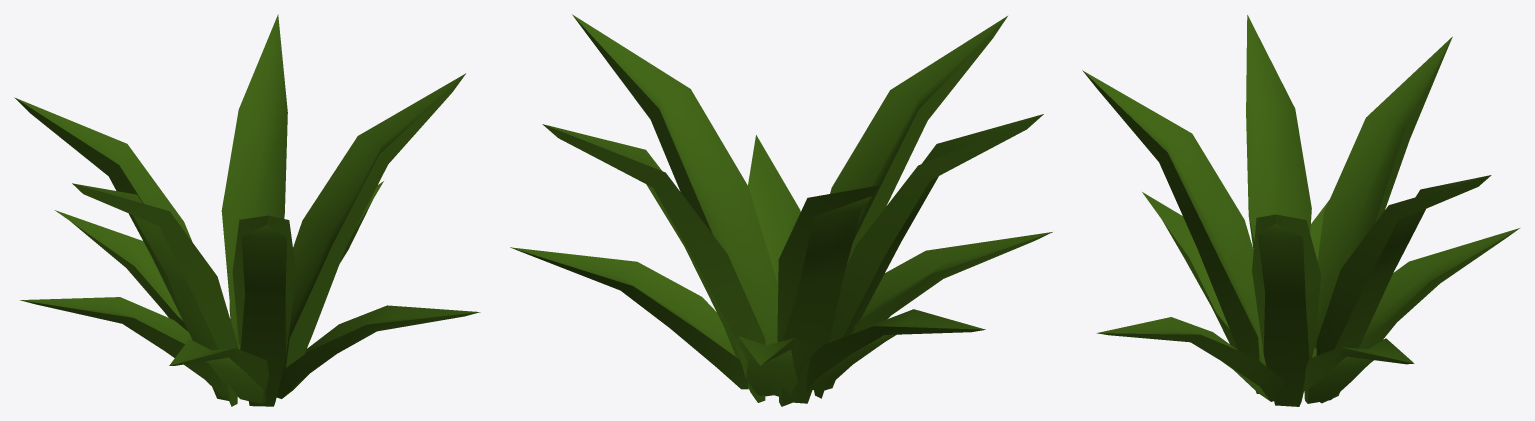
File: Bush_type1.FBX
3 views of the same model, side by side, from view 1: azimuth 30°, elevation 25°; view 2: azimuth 150°, elevation 25°; view 3: azimuth 270°, elevation 25° (orthographic). The views are drawn at different scales.
Parts seen in each view (by area): view 1: Derevo_type1_01; view 2: Derevo_type1_01; view 3: Derevo_type1_01.
Part boxes in pixels (box(x1,y1,x2,y2)): Derevo_type1_01: box(14, 14, 480, 406); Derevo_type1_01: box(510, 14, 1052, 406); Derevo_type1_01: box(1082, 15, 1519, 406).
Size of the model in its own units: 90.28 by 83.46 by 58.46.
